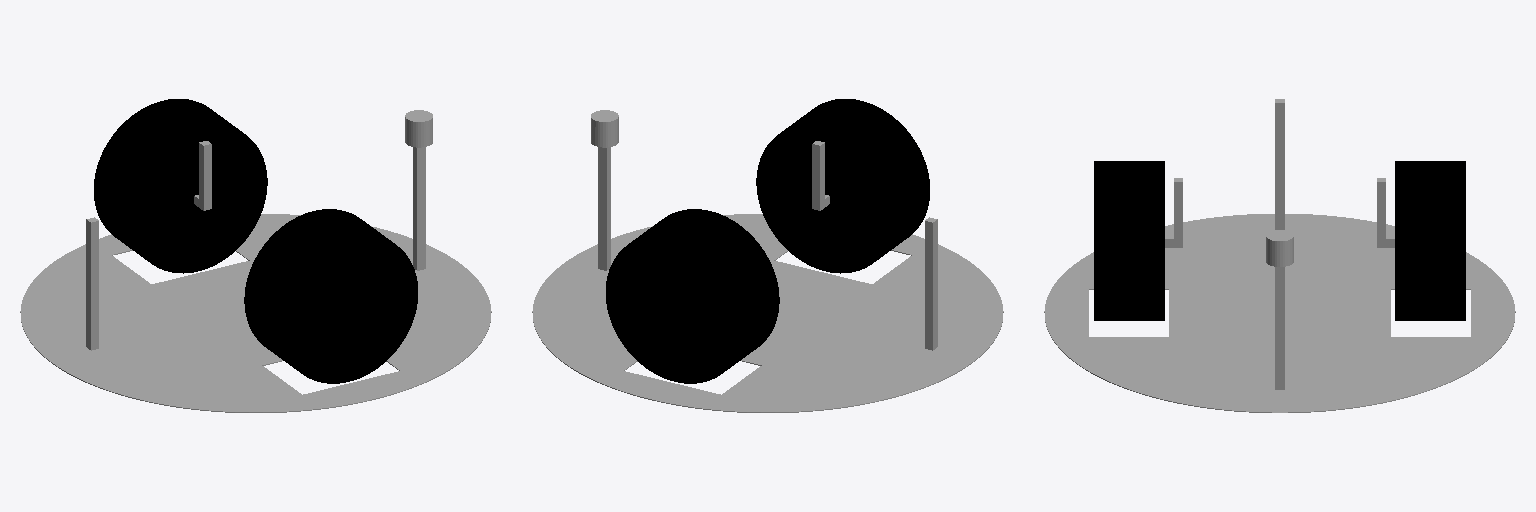
URDF robot description (haruna):
<?xml version="1.0" ?>
<robot name="haruna">

  <link name="base_link">
    <inertial>
      <origin xyz="1.0338131004861055e-16 5.1690655024305274e-17 0.157" rpy="0 0 0"/>
      <mass value="1.381203895667492"/>
      <inertia ixx="0.019888" iyy="0.023891" izz="0.043779" ixy="0.0" iyz="0.0" ixz="0.0"/>
    </inertial>
    <visual>
      <origin xyz="0 0 0" rpy="0 0 0"/>
      <geometry>
        <mesh filename="package://haruna_description/meshes/base_link.stl" scale="0.001 0.001 0.001"/>
      </geometry>
      <material name="silver">
        <color rgba="0.700 0.700 0.700 1.000"/>
      </material>
    </visual>
    <collision>
      <origin xyz="0 0 0" rpy="0 0 0"/>
      <geometry>
        <mesh filename="package://haruna_description/meshes/base_link.stl" scale="0.001 0.001 0.001"/>
      </geometry>
    </collision>
  </link>

  <link name="front_leg_link_1">
    <inertial>
      <origin xyz="0.20000000000000004 0.0 -0.23149999999999998" rpy="0 0 0"/>
      <mass value="0.0"/>
      <inertia ixx="0.0" iyy="0.0" izz="0.0" ixy="0.0" iyz="0.0" ixz="0.0"/>
    </inertial>
    <visual>
      <origin xyz="-0.0 -0.0 -0.313" rpy="0 0 0"/>
      <geometry>
        <mesh filename="package://haruna_description/meshes/front_leg_link_1.stl" scale="0.001 0.001 0.001"/>
      </geometry>
      <material name="silver">
        <color rgba="0.700 0.700 0.700 1.000"/>
      </material>
    </visual>
    <collision>
      <origin xyz="-0.0 -0.0 -0.313" rpy="0 0 0"/>
      <geometry>
        <mesh filename="package://haruna_description/meshes/front_leg_link_1.stl" scale="0.001 0.001 0.001"/>
      </geometry>
    </collision>
  </link>

  <link name="back_leg_link_1">
    <inertial>
      <origin xyz="-0.2 0.0 -0.23149999999999998" rpy="0 0 0"/>
      <mass value="0.0"/>
      <inertia ixx="0.0" iyy="0.0" izz="0.0" ixy="0.0" iyz="0.0" ixz="0.0"/>
    </inertial>
    <visual>
      <origin xyz="-0.0 -0.0 -0.313" rpy="0 0 0"/>
      <geometry>
        <mesh filename="package://haruna_description/meshes/back_leg_link_1.stl" scale="0.001 0.001 0.001"/>
      </geometry>
      <material name="silver">
        <color rgba="0.700 0.700 0.700 1.000"/>
      </material>
    </visual>
    <collision>
      <origin xyz="-0.0 -0.0 -0.313" rpy="0 0 0"/>
      <geometry>
        <mesh filename="package://haruna_description/meshes/back_leg_link_1.stl" scale="0.001 0.001 0.001"/>
      </geometry>
    </collision>
  </link>

  <link name="right_leg_link_1">
    <inertial>
      <origin xyz="0.0 -0.10865606936416185 -0.19859393063583816" rpy="0 0 0"/>
      <mass value="0.06790249999999999"/>
      <inertia ixx="3.8e-05" iyy="3.8e-05" izz="2e-06" ixy="-0.0" iyz="-2e-06" ixz="0.0"/>
    </inertial>
    <visual>
      <origin xyz="-0.0 -0.0 -0.313" rpy="0 0 0"/>
      <geometry>
        <mesh filename="package://haruna_description/meshes/right_leg_link_1.stl" scale="0.001 0.001 0.001"/>
      </geometry>
      <material name="silver">
        <color rgba="0.700 0.700 0.700 1.000"/>
      </material>
    </visual>
    <collision>
      <origin xyz="-0.0 -0.0 -0.313" rpy="0 0 0"/>
      <geometry>
        <mesh filename="package://haruna_description/meshes/right_leg_link_1.stl" scale="0.001 0.001 0.001"/>
      </geometry>
    </collision>
  </link>

  <link name="left_leg_link_1">
    <inertial>
      <origin xyz="0.0 0.10865606936416185 -0.19859393063583816" rpy="0 0 0"/>
      <mass value="0.06790249999999999"/>
      <inertia ixx="3.8e-05" iyy="3.8e-05" izz="2e-06" ixy="0.0" iyz="2e-06" ixz="0.0"/>
    </inertial>
    <visual>
      <origin xyz="-0.0 -0.0 -0.313" rpy="0 0 0"/>
      <geometry>
        <mesh filename="package://haruna_description/meshes/left_leg_link_1.stl" scale="0.001 0.001 0.001"/>
      </geometry>
      <material name="silver">
        <color rgba="0.700 0.700 0.700 1.000"/>
      </material>
    </visual>
    <collision>
      <origin xyz="-0.0 -0.0 -0.313" rpy="0 0 0"/>
      <geometry>
        <mesh filename="package://haruna_description/meshes/left_leg_link_1.stl" scale="0.001 0.001 0.001"/>
      </geometry>
    </collision>
  </link>

  <link name="left_wheel_link_1">
    <inertial>
      <origin xyz="-1.0685163737249417e-17 0.037500000000000006 0.0" rpy="0 0 0"/>
      <mass value="13.363451575437157"/>
      <inertia ixx="0.030402" iyy="0.048275" izz="0.030402" ixy="-0.0" iyz="0.0" ixz="-0.0"/>
    </inertial>
    <visual>
      <origin xyz="-0.0 -0.1225 -0.085" rpy="0 0 0"/>
      <geometry>
        <mesh filename="package://haruna_description/meshes/left_wheel_link_1.stl" scale="0.001 0.001 0.001"/>
      </geometry>
      <material name="black">
        <color rgba="0.0 0.0 0.0 1.0"/>
      </material>
    </visual>
    <collision>
      <origin xyz="-0.0 -0.1225 -0.085" rpy="0 0 0"/>
      <geometry>
        <mesh filename="package://haruna_description/meshes/left_wheel_link_1.stl" scale="0.001 0.001 0.001"/>
      </geometry>
    </collision>
  </link>

  <link name="right_wheel_link_1">
    <inertial>
      <origin xyz="-1.0685163737249417e-17 -0.037500000000000006 0.0" rpy="0 0 0"/>
      <mass value="13.363451575437157"/>
      <inertia ixx="0.030402" iyy="0.048275" izz="0.030402" ixy="-0.0" iyz="-0.0" ixz="-0.0"/>
    </inertial>
    <visual>
      <origin xyz="-0.0 0.1225 -0.085" rpy="0 0 0"/>
      <geometry>
        <mesh filename="package://haruna_description/meshes/right_wheel_link_1.stl" scale="0.001 0.001 0.001"/>
      </geometry>
      <material name="black">
        <color rgba="0.0 0.0 0.0 1.0"/>
      </material>
    </visual>
    <collision>
      <origin xyz="-0.0 0.1225 -0.085" rpy="0 0 0"/>
      <geometry>
        <mesh filename="package://haruna_description/meshes/right_wheel_link_1.stl" scale="0.001 0.001 0.001"/>
      </geometry>
    </collision>
  </link>

  <joint name="base_to_front_leg_joint" type="fixed">
    <origin xyz="0.0 0.0 0.313" rpy="0 0 0"/>
    <parent link="base_link"/>
    <child link="front_leg_link_1"/>
  </joint>

  <joint name="base_to_back_leg_joint" type="fixed">
    <origin xyz="0.0 0.0 0.313" rpy="0 0 0"/>
    <parent link="base_link"/>
    <child link="back_leg_link_1"/>
  </joint>

  <joint name="base_to_right_leg_joint" type="fixed">
    <origin xyz="0.0 0.0 0.313" rpy="0 0 0"/>
    <parent link="base_link"/>
    <child link="right_leg_link_1"/>
  </joint>

  <joint name="base_to_left_leg_joint" type="fixed">
    <origin xyz="0.0 0.0 0.313" rpy="0 0 0"/>
    <parent link="base_link"/>
    <child link="left_leg_link_1"/>
  </joint>

  <joint name="left_leg_to_left_wheel_joint" type="continuous">
    <origin xyz="0.0 0.1225 -0.228" rpy="0 0 0"/>
    <parent link="left_leg_link_1"/>
    <child link="left_wheel_link_1"/>
    <axis xyz="0.0 1.0 0.0"/>
  </joint>

  <joint name="right_leg_to_right_wheel_joint" type="continuous">
    <origin xyz="0.0 -0.1225 -0.228" rpy="0 0 0"/>
    <parent link="right_leg_link_1"/>
    <child link="right_wheel_link_1"/>
    <axis xyz="0.0 1.0 0.0"/>
  </joint>

  <link name="laser">
    <inertial>
      <mass value="1e-5" />
      <origin xyz="0.0 0.0 0.0" rpy="0.0 0.0 0.0"/>
      <inertia ixx="1e-6" ixy="0" ixz="0" iyy="1e-6" iyz="0" izz="1e-6" />
    </inertial>
    <visual>
      <origin xyz="0.0 0.0 0.0" rpy="0.0 0.0 0.0"/>
      <geometry>
       <cylinder radius="0.015" length="0.03"/>
      </geometry>
    </visual>
    <collision>
      <origin xyz="0.0 0.0 0.0" rpy="0.0 0.0 0.0"/>
      <geometry>
       <cylinder radius="0.015" length="0.03"/>
      </geometry>
    </collision>
  </link>

  <joint name="base_to_laser" type="fixed">
    <origin xyz="0.2 0.0 0.17" rpy="0.0 3.14 0.0"/>
    <parent link="base_link"/>
    <child link="laser"/>
  </joint>

  <!-- ===============  Transmission =============== -->

  <transmission name="left_leg_to_left_wheel_joint_tran">
    <type>transmission_interface/SimpleTransmission</type>
    <joint name="left_leg_to_left_wheel_joint">
      <hardwareInterface>hardware_interface/EffortJointInterface</hardwareInterface>
    </joint>
    <actuator name="left_leg_to_left_wheel_joint_actr">
      <hardwareInterface>hardware_interface/EffortJointInterface</hardwareInterface>
      <mechanicalReduction>1</mechanicalReduction>
    </actuator>
  </transmission>

  <transmission name="right_leg_to_right_wheel_joint_tran">
    <type>transmission_interface/SimpleTransmission</type>
    <joint name="right_leg_to_right_wheel_joint">
      <hardwareInterface>hardware_interface/EffortJointInterface</hardwareInterface>
    </joint>
    <actuator name="right_leg_to_right_wheel_joint_actr">
      <hardwareInterface>hardware_interface/EffortJointInterface</hardwareInterface>
      <mechanicalReduction>1</mechanicalReduction>
    </actuator>
  </transmission>

  <!-- =============== Gazebo =============== -->

  <gazebo>
    <plugin name="differential_drive_controller" filename="libgazebo_ros_diff_drive.so">
      <leftJoint>left_leg_to_left_wheel_joint</leftJoint>
      <rightJoint>right_leg_to_right_wheel_joint</rightJoint>
      <robotBaseFrame>base_link</robotBaseFrame>
      <wheelSeparation>0.36</wheelSeparation>
      <wheelDiameter>0.17</wheelDiameter>
      <updateRate>50</updateRate>
      <publishWheelJointState>true</publishWheelJointState>
    </plugin>
  </gazebo>
  
  <gazebo reference="base_link">
    <mu1>0.2</mu1>
    <mu2>0.2</mu2>
    <selfCollide>true</selfCollide>
    <gravity>true</gravity>
  </gazebo>

  <gazebo reference="front_leg_link_1">
    <mu1>0.0</mu1>
    <mu2>0.0</mu2>
    <selfCollide>true</selfCollide>
  </gazebo>

  <gazebo reference="back_leg_link_1">
    <mu1>0.0</mu1>
    <mu2>0.0</mu2>
    <selfCollide>true</selfCollide>
  </gazebo>

  <gazebo reference="right_leg_link_1">
    <mu1>0.2</mu1>
    <mu2>0.2</mu2>
    <selfCollide>true</selfCollide>
  </gazebo>

  <gazebo reference="left_leg_link_1">
    <mu1>0.2</mu1>
    <mu2>0.2</mu2>
    <selfCollide>true</selfCollide>
  </gazebo>

  <gazebo reference="left_wheel_link_1">
    <mu1>0.2</mu1>
    <mu2>0.2</mu2>
    <selfCollide>true</selfCollide>
  </gazebo>

  <gazebo reference="right_wheel_link_1">
    <mu1>0.2</mu1>
    <mu2>0.2</mu2>
    <selfCollide>true</selfCollide>
  </gazebo>

  <gazebo reference="laser">
    <sensor type="ray" name="rplidar">
      <pose>0 0 0 0 0 0 </pose>
      <visualize>false</visualize>
      <update_rate>30</update_rate>
      <ray>
        <scan>
          <horizontal>
            <samples>720</samples>
            <resolution>1</resolution>
            <min_angle>-3.14</min_angle>
            <max_angle>3.14</max_angle>
          </horizontal>
        </scan>
        <range>
          <min>0.2</min>
          <max>12.0</max>
          <resolution>0.01</resolution>
        </range>
      </ray>
      <plugin name="gazebo_ros_rplidar_controller" filename="libgazebo_ros_laser.so">
        <topicName>/scan</topicName>
        <frameName>laser</frameName>
      </plugin>
    </sensor>
  </gazebo>
</robot>

--- What the picture shows (computed from the rendered views, not written in the file) ---
3 views of the same robot in one strip: view 1: azimuth 30°, elevation 25°; view 2: azimuth 150°, elevation 25°; view 3: azimuth 270°, elevation 25° (orthographic).
Model haruna with 8 links and 7 joints (2 continuous, 5 fixed), rooted at base_link, posed all joints at 0.
Links seen in each view (by area): view 1: base_link, right_wheel_link_1, left_wheel_link_1, back_leg_link_1, front_leg_link_1, laser, left_leg_link_1; view 2: base_link, left_wheel_link_1, right_wheel_link_1, back_leg_link_1, front_leg_link_1, laser, right_leg_link_1; view 3: base_link, left_wheel_link_1, right_wheel_link_1, back_leg_link_1, front_leg_link_1, laser, right_leg_link_1, left_leg_link_1.
Boxes of the visible links, x1,y1,x2,y2 form: base_link: (20, 214, 491, 412); right_wheel_link_1: (244, 209, 417, 383); left_wheel_link_1: (94, 99, 267, 273); back_leg_link_1: (86, 217, 98, 350); front_leg_link_1: (413, 147, 425, 270); laser: (405, 110, 432, 147); left_leg_link_1: (194, 141, 211, 210); base_link: (532, 214, 1003, 412); left_wheel_link_1: (606, 209, 779, 383); right_wheel_link_1: (756, 99, 929, 273); back_leg_link_1: (925, 217, 937, 350); front_leg_link_1: (598, 147, 610, 270); laser: (591, 110, 618, 147); right_leg_link_1: (812, 141, 829, 210); base_link: (1044, 214, 1515, 412); left_wheel_link_1: (1395, 161, 1465, 320); right_wheel_link_1: (1094, 161, 1164, 320); back_leg_link_1: (1275, 99, 1284, 229); front_leg_link_1: (1275, 267, 1284, 389); laser: (1266, 230, 1293, 266); right_leg_link_1: (1165, 178, 1182, 247); left_leg_link_1: (1377, 178, 1394, 247).
Size in the robot's own frame: 0.4999 by 0.4999 by 0.185 metres.
Meshes: 7 distinct files referenced, 7 mesh visuals loaded (7 binary STL).
